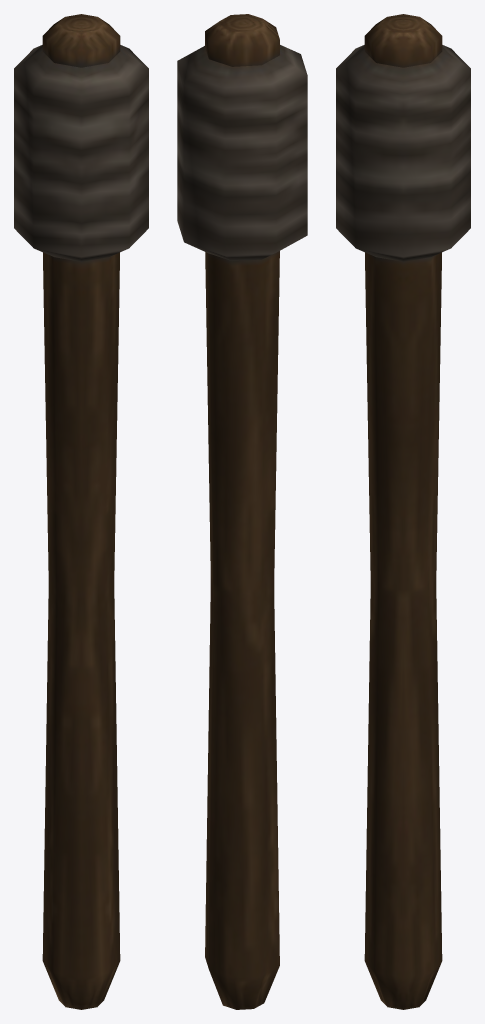
The model's file is Torch_Geo.fbx.
3 views of the same model, side by side, from view 1: azimuth 90°, elevation 25°; view 2: azimuth 210°, elevation 25°; view 3: azimuth 270°, elevation 25° (orthographic).
Parts seen in each view (by area): view 1: Torch_Geo; view 2: Torch_Geo; view 3: Torch_Geo.
Part boxes in pixels (left/top/right/bottom): Torch_Geo: left=14, top=14, right=148, bottom=1009; Torch_Geo: left=177, top=14, right=307, bottom=1009; Torch_Geo: left=336, top=14, right=470, bottom=1009.
Size of the model in its own units: 6.53 by 52.16 by 6.53.
